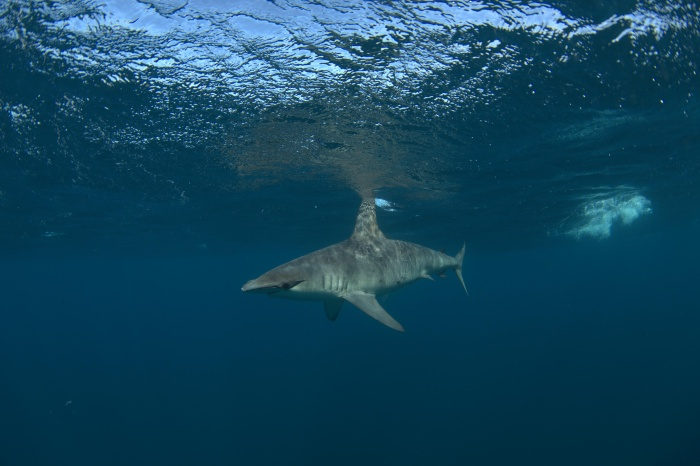Hammer: (237, 189, 495, 348)
